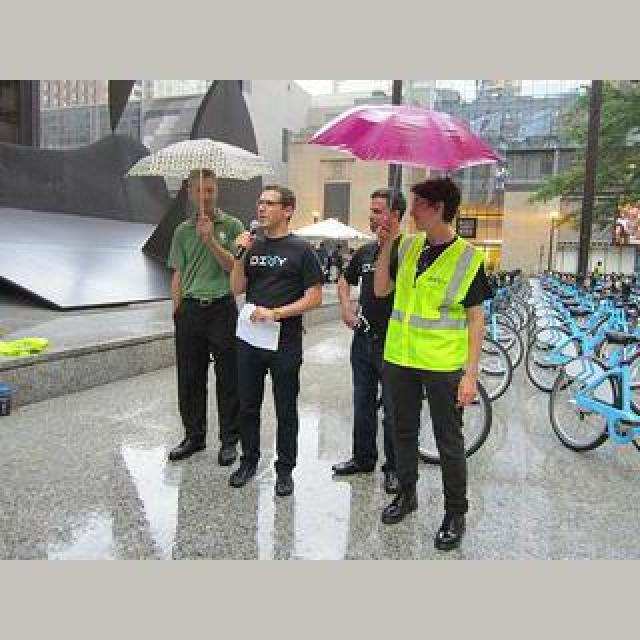MC-Bike: (376, 174, 490, 550), (222, 182, 324, 494), (164, 172, 246, 468), (334, 184, 408, 484)
Person: (550, 334, 640, 454), (526, 304, 638, 394)
